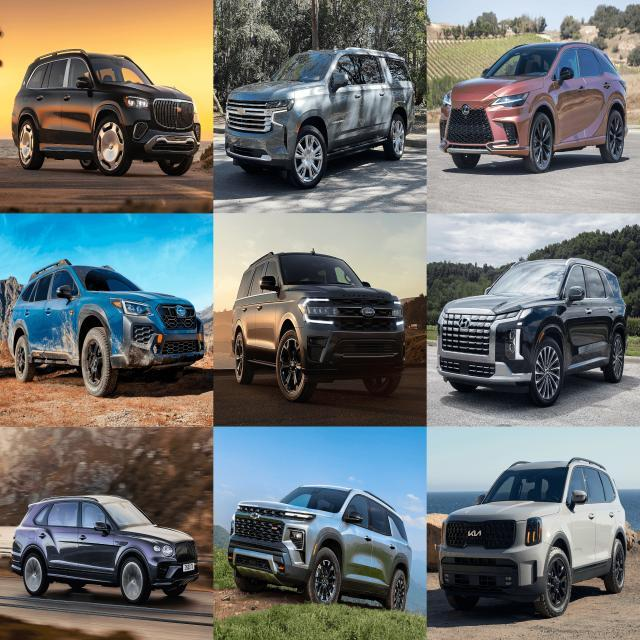sedan: (436, 256, 628, 407), (440, 460, 630, 612), (7, 258, 205, 398), (224, 46, 416, 189), (230, 249, 406, 402), (437, 40, 628, 175), (10, 47, 202, 176), (228, 484, 412, 612), (10, 498, 198, 605)
